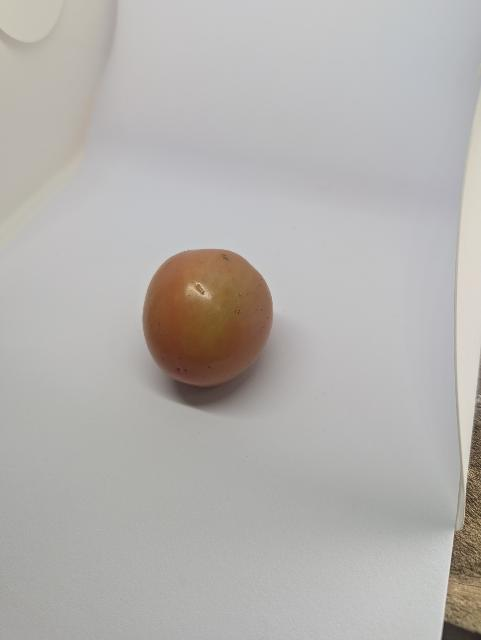turning: (136, 243, 282, 390)
